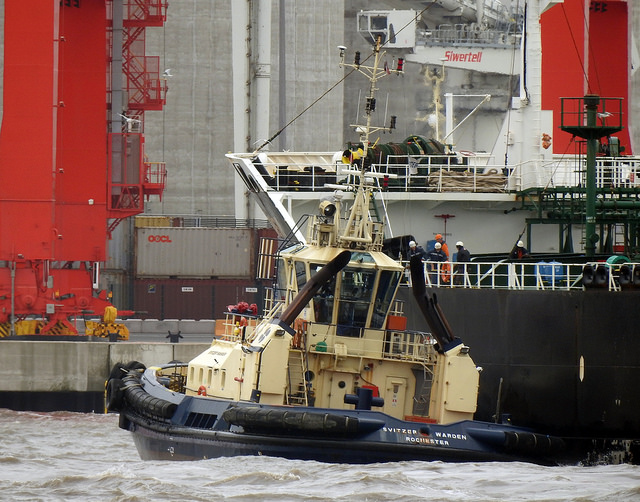tug_boat: (107, 185, 547, 470)
